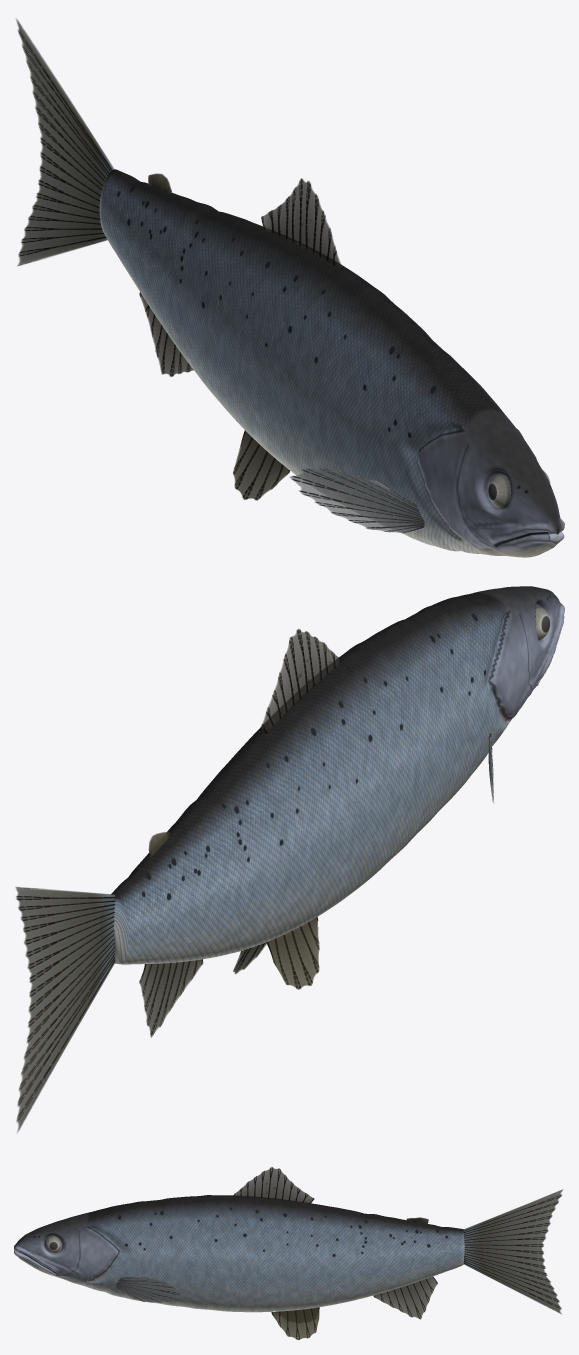
File: losos.glb
3 renders of one model, top to bottom at view 1: azimuth 30°, elevation 25°; view 2: azimuth 150°, elevation 25°; view 3: azimuth 270°, elevation 25°, orthographic. The views are drawn at different scales.
Visible parts, largest first — view 1: Body, FinCaudal, FinPectoral, FinDorsal1, FinPelvic, FinAnal; view 2: Body, FinCaudal, FinDorsal1, FinPelvic, FinAnal; view 3: Body, FinCaudal, FinDorsal1, FinAnal, FinPectoral, FinPelvic.
Boxes of the visible parts, x1,y1,x2,y2 form: Body: [99, 169, 564, 557]; FinCaudal: [16, 19, 114, 265]; FinPectoral: [289, 468, 424, 533]; FinDorsal1: [261, 178, 342, 269]; FinPelvic: [233, 430, 289, 500]; FinAnal: [139, 292, 193, 376]; Body: [111, 586, 564, 964]; FinCaudal: [15, 887, 115, 1132]; FinDorsal1: [261, 629, 341, 733]; FinPelvic: [233, 917, 319, 989]; FinAnal: [139, 959, 203, 1037]; Body: [14, 1195, 464, 1312]; FinCaudal: [463, 1189, 563, 1313]; FinDorsal1: [233, 1167, 314, 1203]; FinAnal: [373, 1276, 437, 1319]; FinPectoral: [116, 1276, 182, 1302]; FinPelvic: [271, 1307, 319, 1340].
Size of the model in its own units: 0.2192 by 0.3361 by 1.
Materials: 9 (8 with a texture image).
